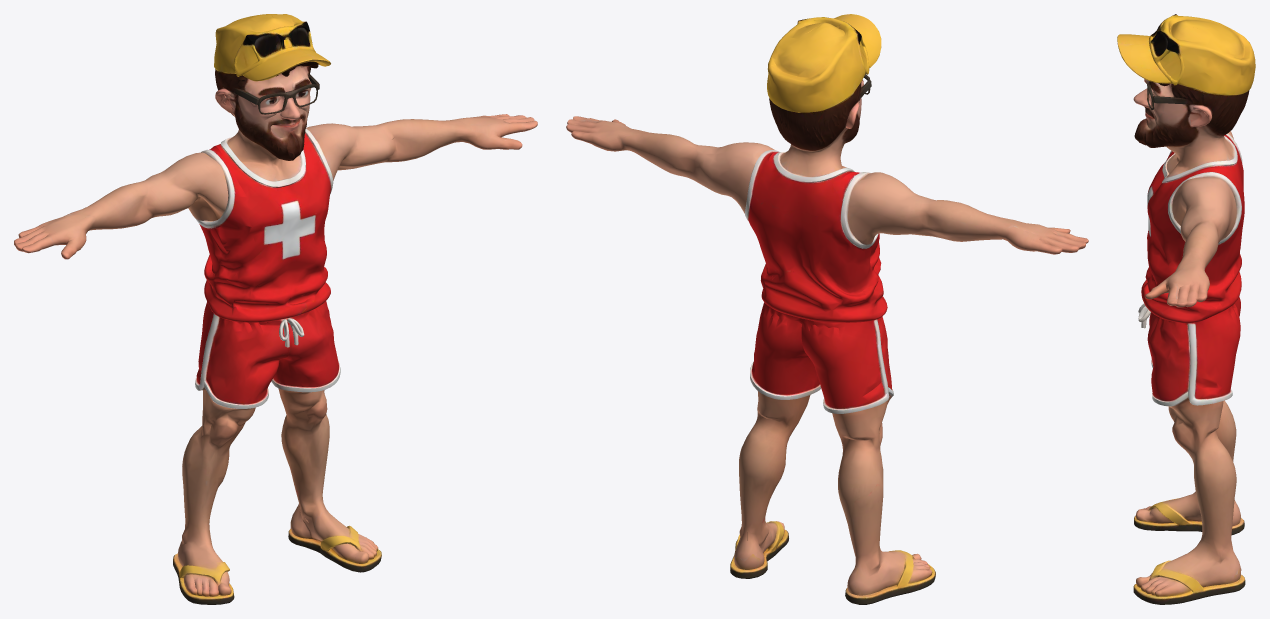
Rendered from charLifeguard.glb.
3 renders of one model, left to right at view 1: azimuth 30°, elevation 25°; view 2: azimuth 150°, elevation 25°; view 3: azimuth 270°, elevation 25°, orthographic. The views are drawn at different scales.
Parts seen in each view (by area): view 1: model; view 2: model; view 3: model.
Part boxes in pixels (x1,y1,x2,y2): model: (14, 14, 537, 604); model: (566, 14, 1088, 604); model: (1117, 14, 1255, 604).
Size of the model in its own units: 1.87 by 1.9 by 0.4417.
1 material, 1 textured.
